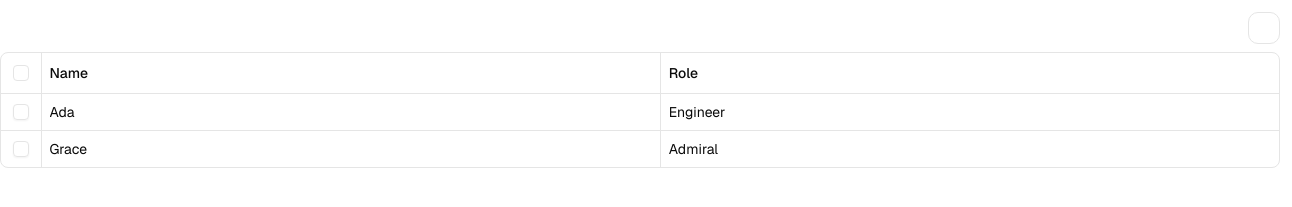
Test: DataGrid › async commit contract › catches a synchronous throw the same way as a rejected promise
Click the 2nd cell at (351, 112), box [41, 93, 660, 130]
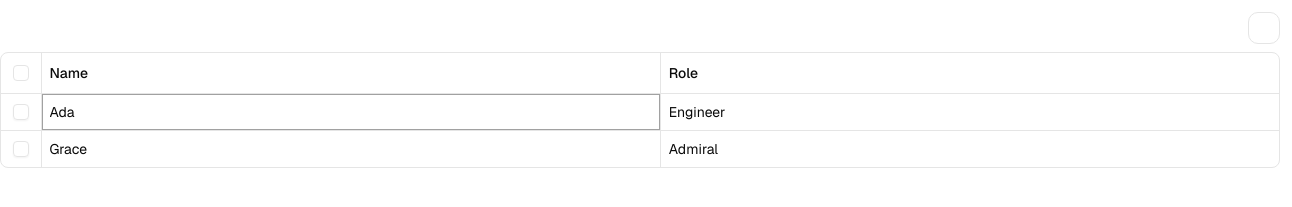
Replace the text in the 1st field with "Updated" at (351, 112), box [42, 94, 660, 130]
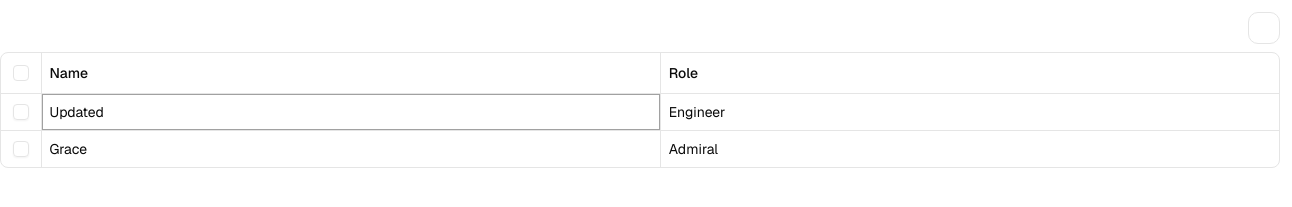
Press Tab
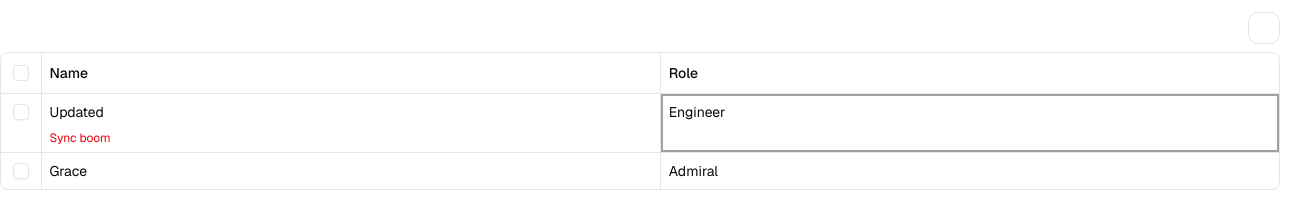
Check: the text "Sync boom" is shown, box [50, 130, 111, 146]
